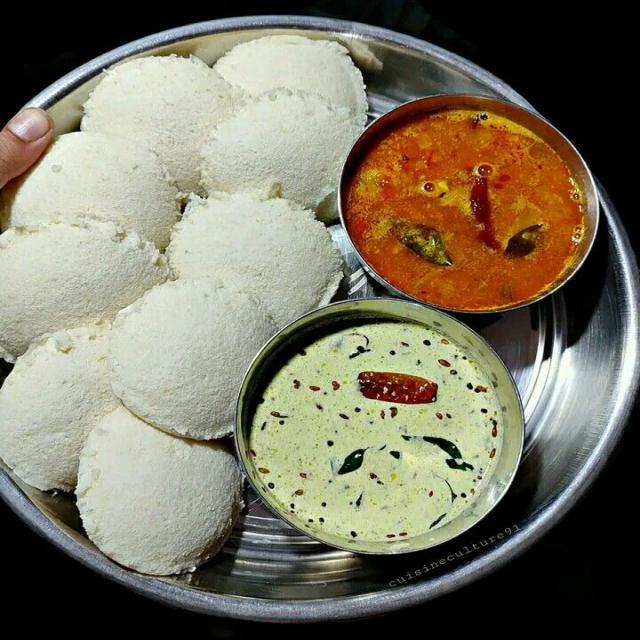chutney: (268, 331, 481, 543)
idly: (12, 368, 240, 573), (110, 286, 261, 439), (18, 148, 184, 254), (87, 60, 241, 171), (200, 100, 344, 204)
